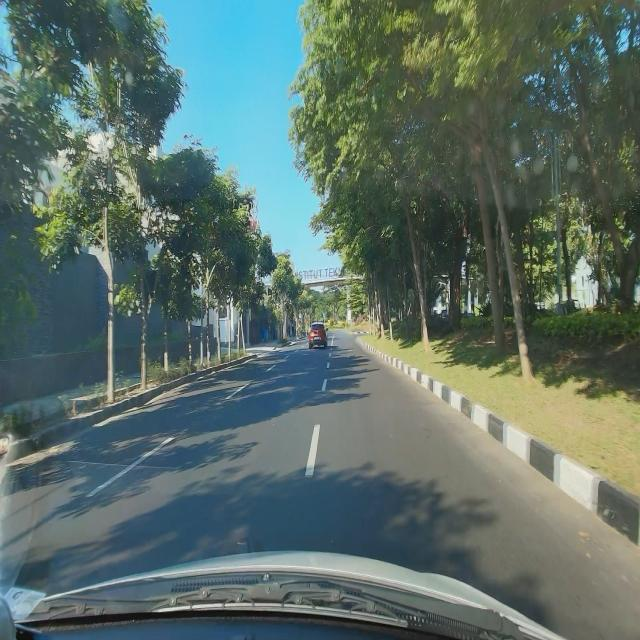car: (308, 321, 328, 351)
